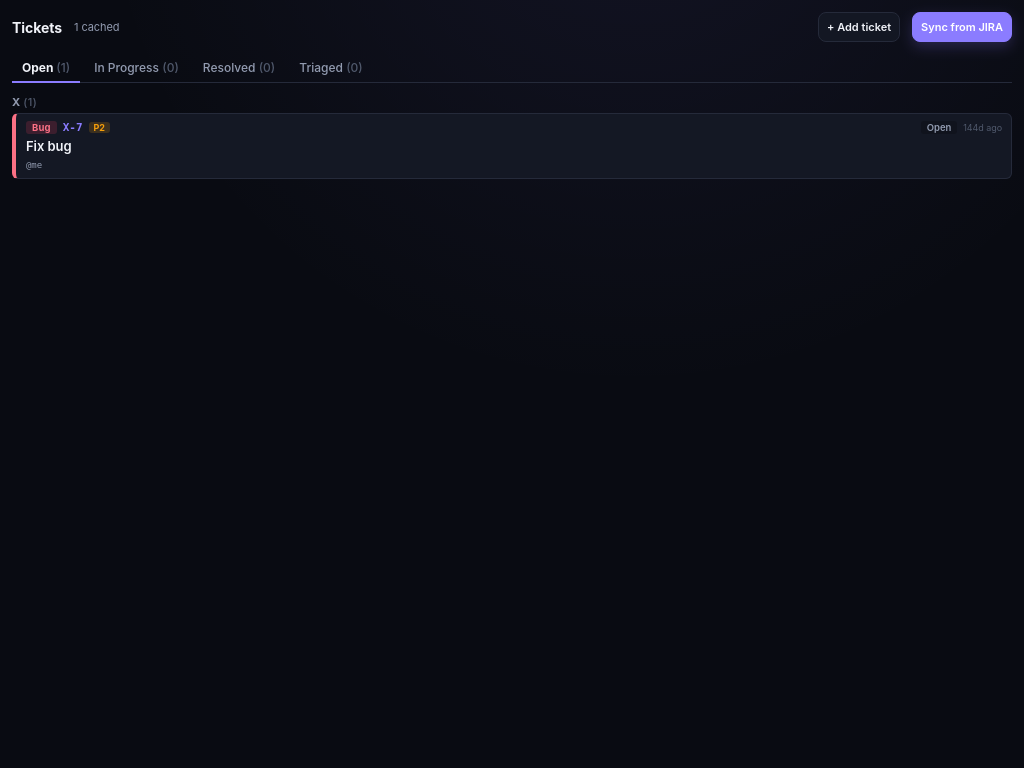
Test: TicketsPage › clicking the same row again collapses the detail panel
Click the element with test id "ticket-row-X-7" at (512, 146), box [12, 113, 1012, 178]
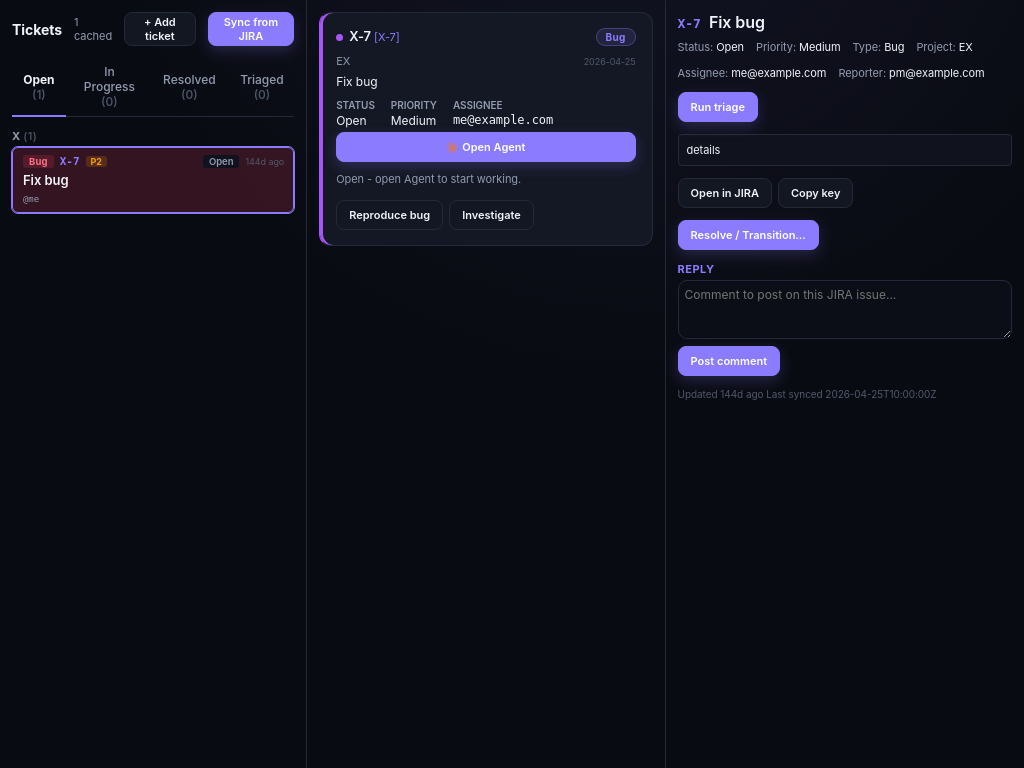
Result: the element with test id "tickets-detail-pane" is shown at [678, 12, 1012, 400]
Click the element with test id "ticket-row-X-7" at (153, 180), box [12, 147, 294, 212]
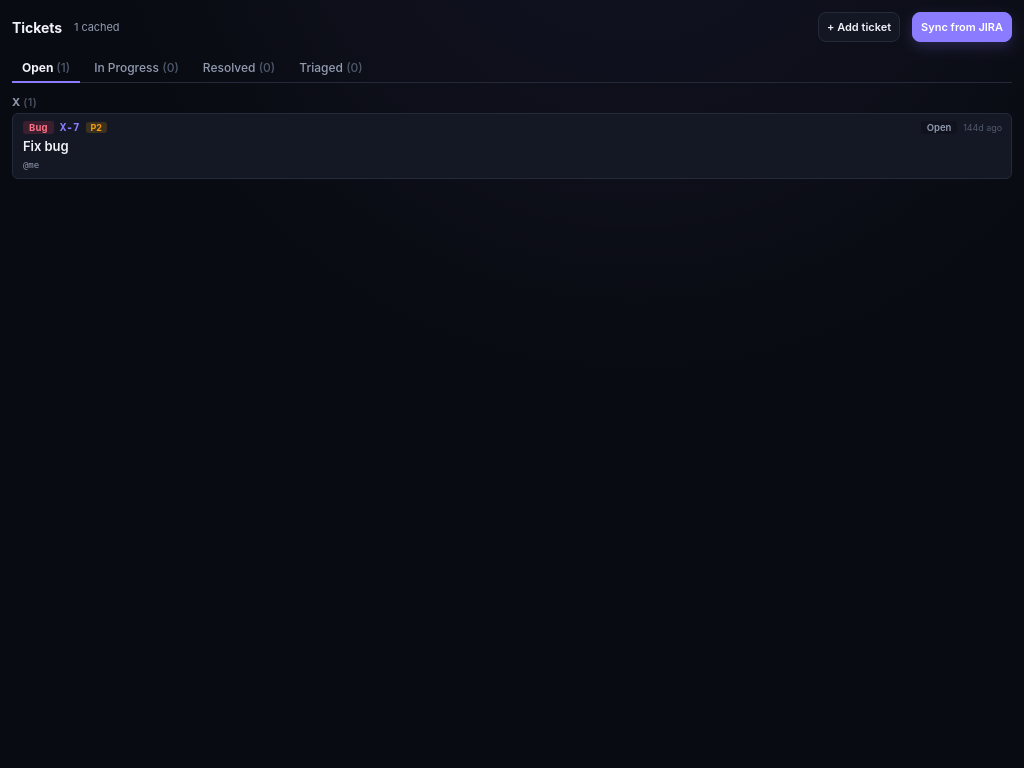
Result: the element with test id "tickets-detail-pane" is gone
